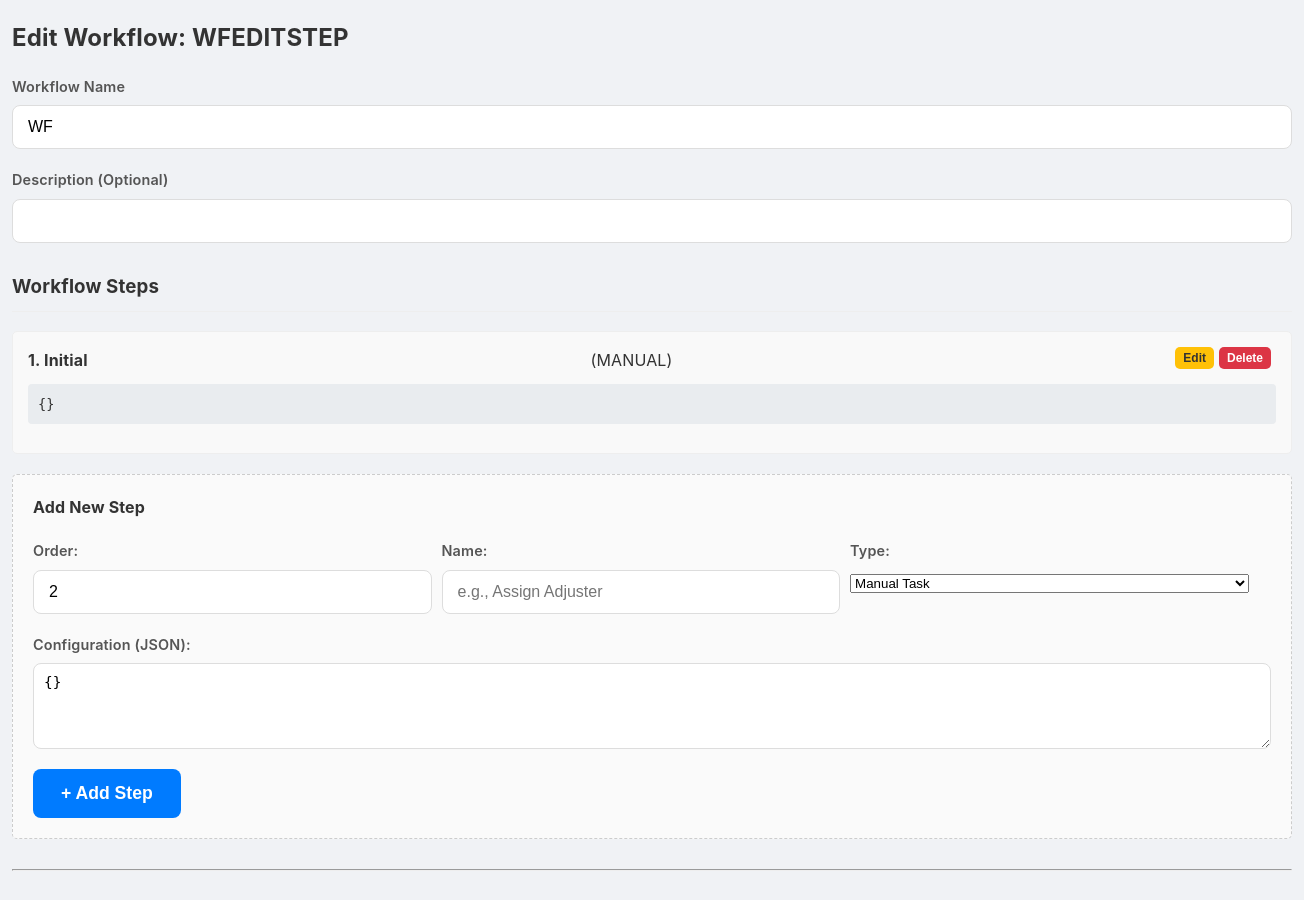
Test: WorkflowEditor › edits an existing step successfully
Click the button "Edit": (1195, 358) [1175, 347, 1214, 369]
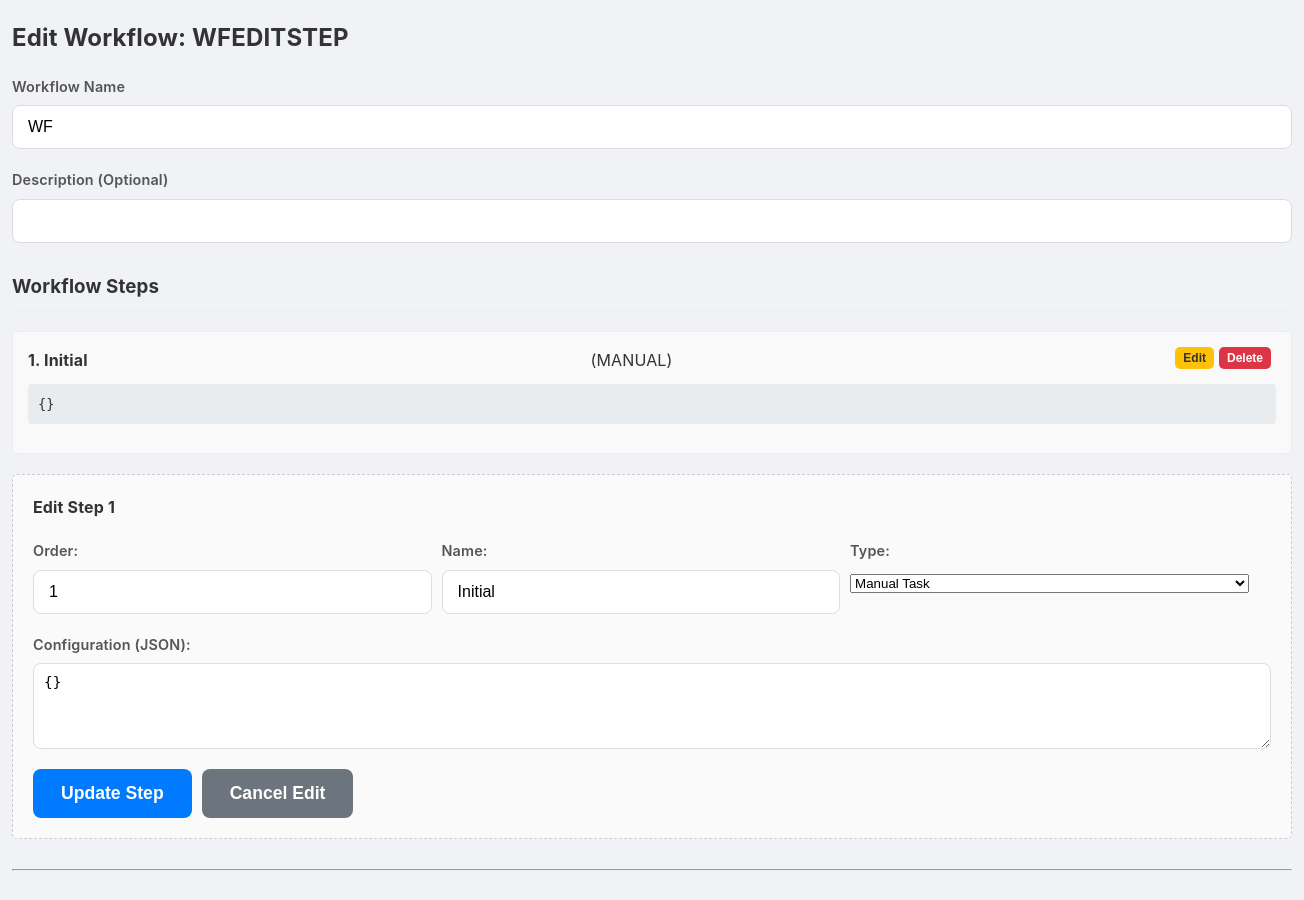
Replace the text in the field with placeholder "e.g., Assign Adjuster" below "Name:" with "Initial Updated": (641, 592) [442, 570, 840, 614]
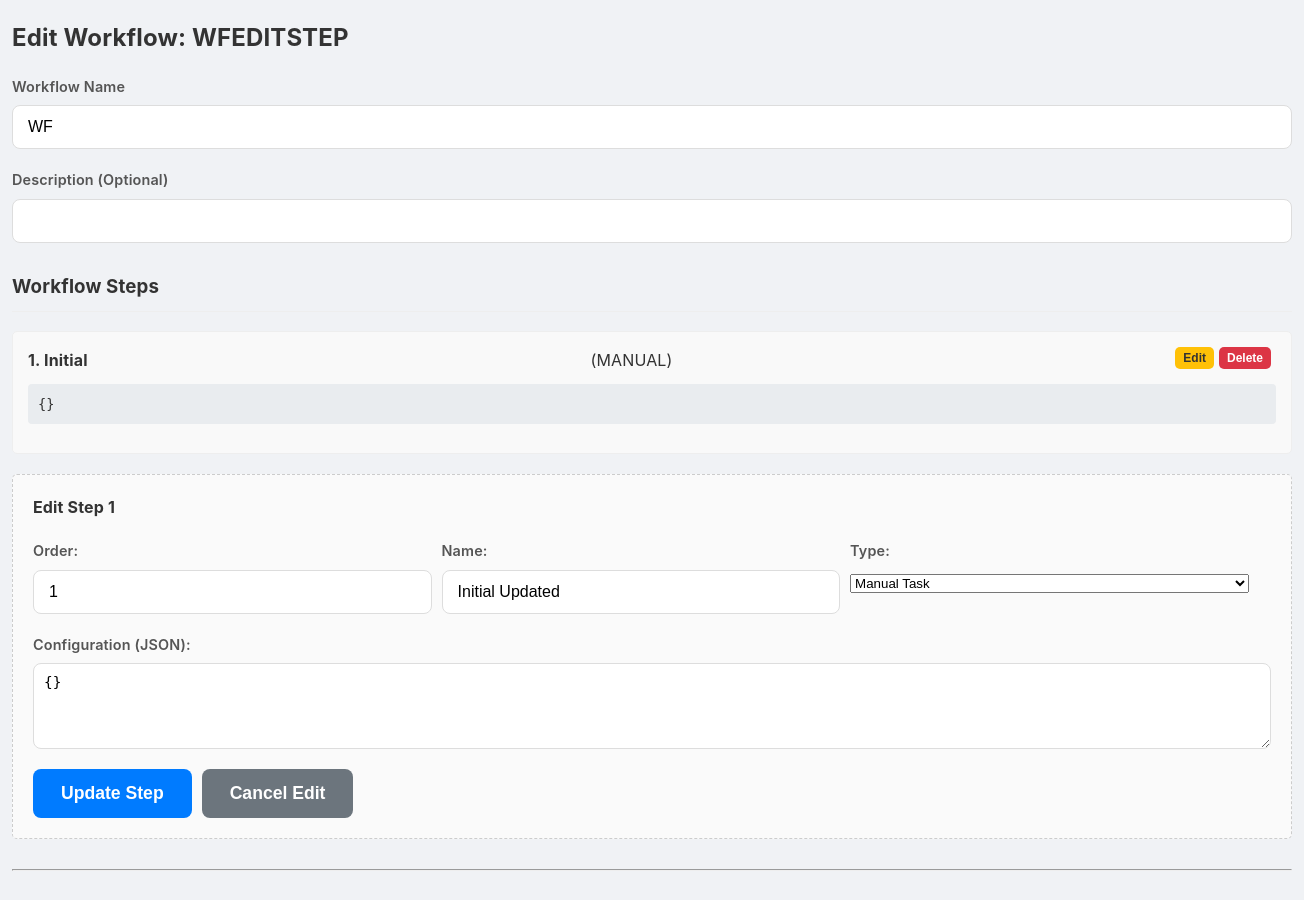
Click the button "Update Step": (112, 794) [33, 769, 192, 818]
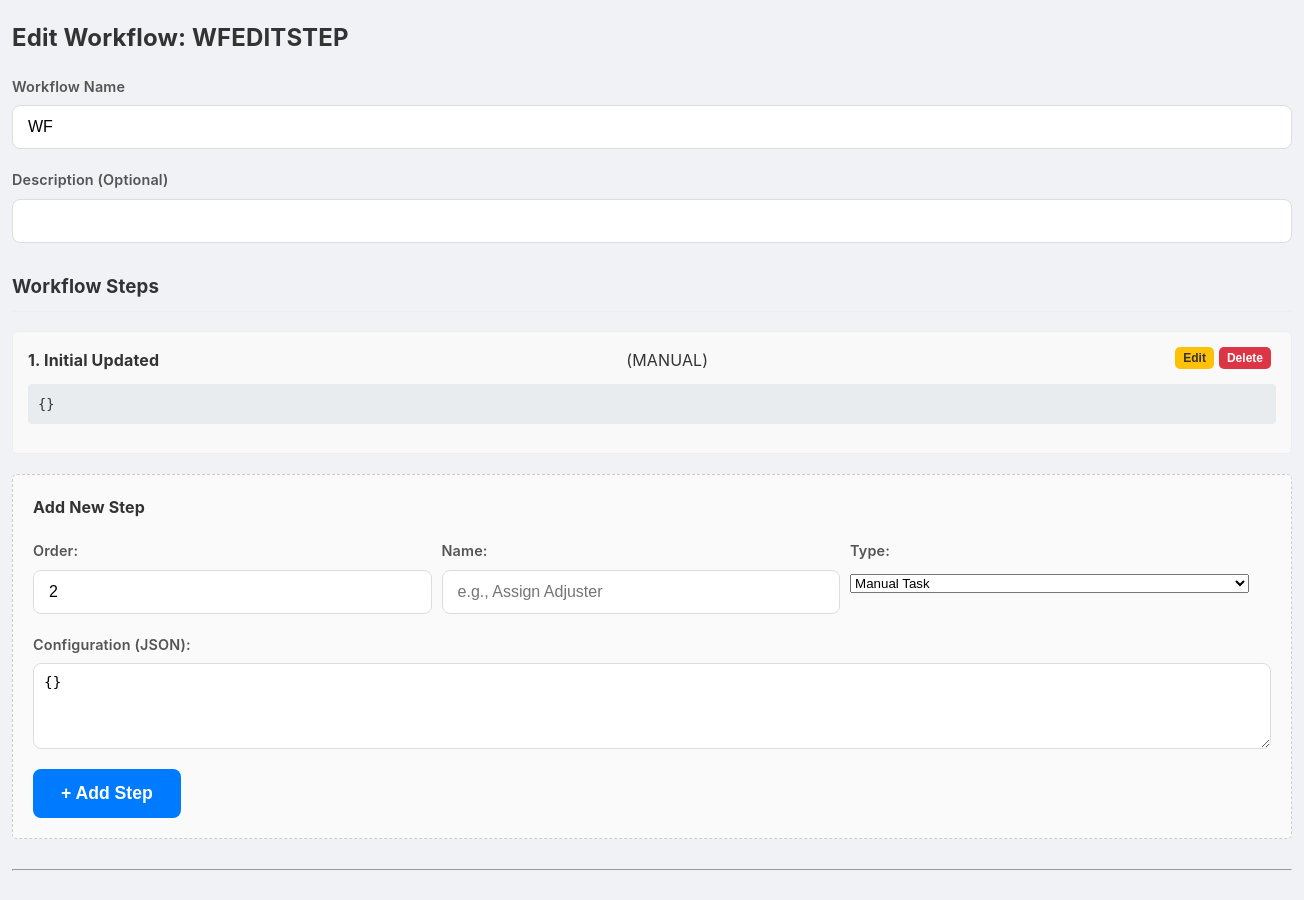
Expected: the text "1. Initial Updated" is shown, [28, 348, 159, 372]
